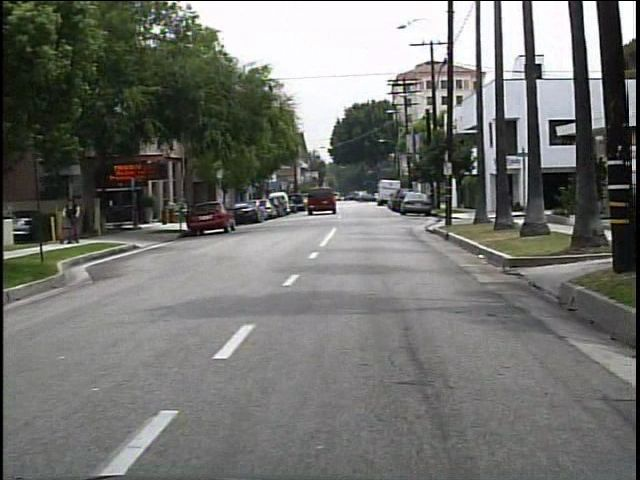person: (62, 196, 88, 245)
